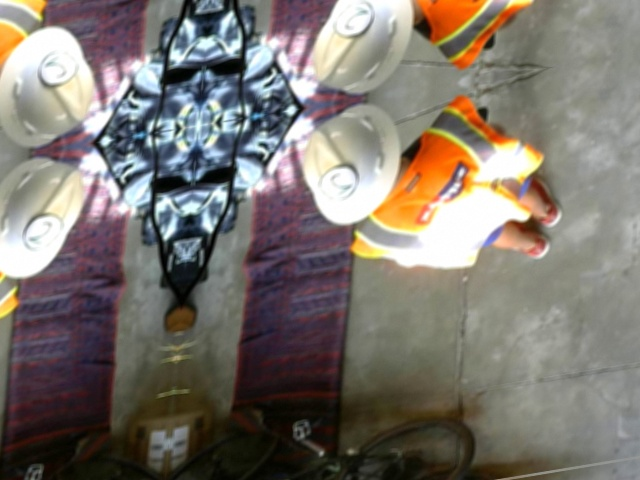two: (316, 163, 357, 206)
